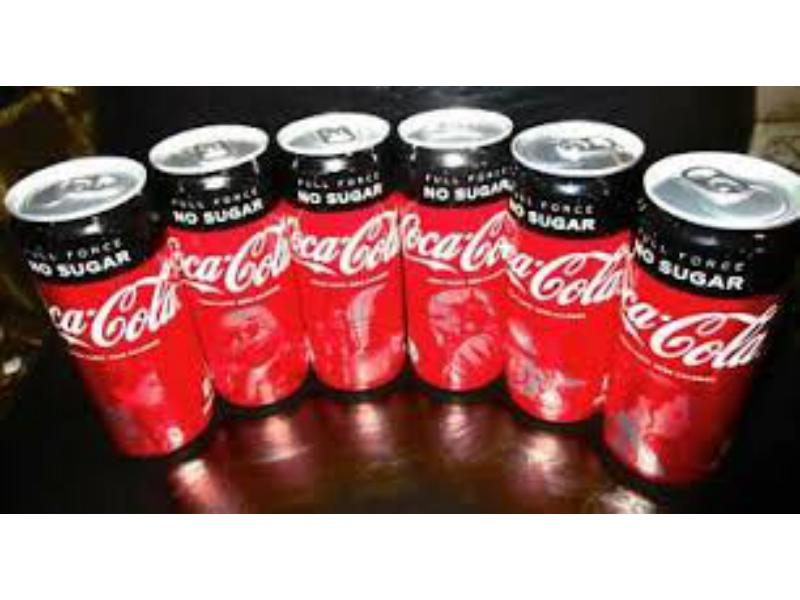can: (1, 122, 223, 471), (589, 145, 797, 485), (138, 105, 317, 414), (499, 113, 668, 421), (269, 102, 409, 395), (393, 105, 523, 388)
